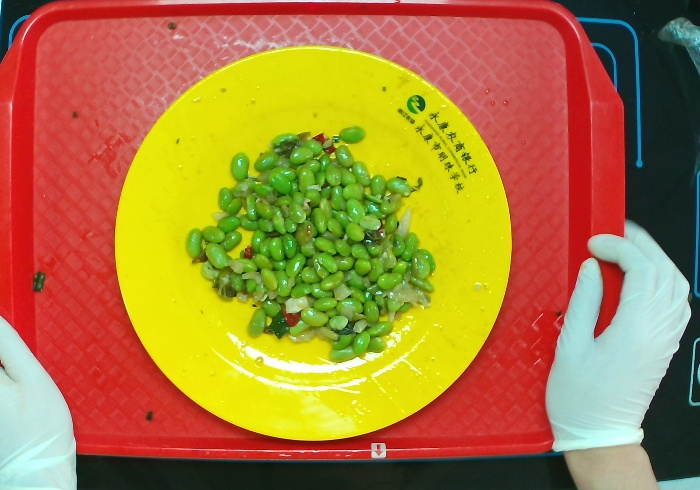YKMZ-Huang_Se_Mian_Pan: (113, 46, 512, 444)
